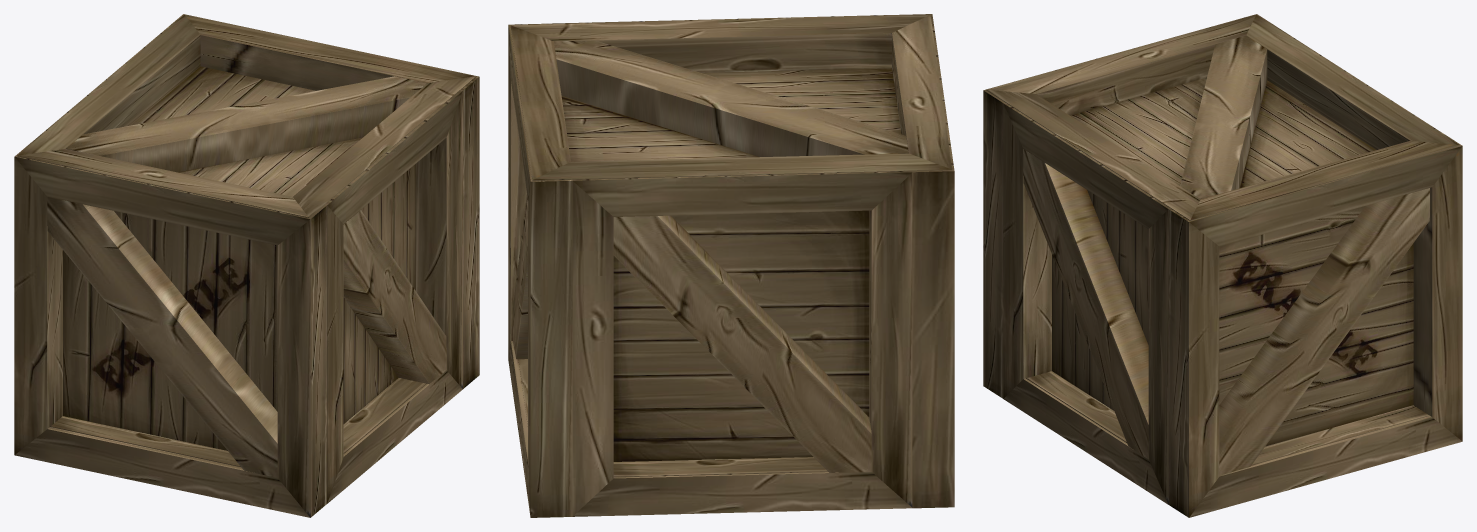
File: Crate_clean.fbx
3 renders of one model, left to right at view 1: azimuth 30°, elevation 25°; view 2: azimuth 150°, elevation 25°; view 3: azimuth 270°, elevation 25°, orthographic. The views are drawn at different scales.
Visible parts, largest first — view 1: polySurface10; view 2: polySurface10; view 3: polySurface10.
Part boxes in pixels (x1,y1,x2,y2): polySurface10: (14,14,479,517); polySurface10: (508,14,954,517); polySurface10: (983,14,1462,517).
Size of the model in its own units: 5.7 by 3.8 by 5.55.
1 material, 1 textured.
